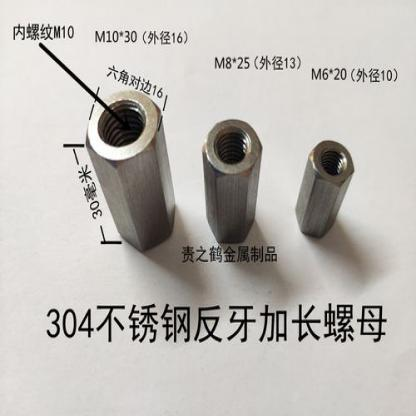FOD: (86, 89, 176, 265), (203, 114, 266, 251), (292, 138, 358, 243)
